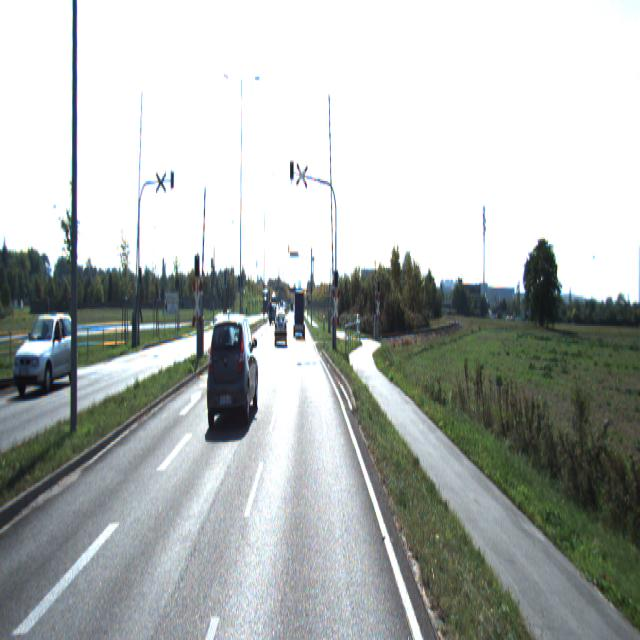Car: (206, 306, 259, 434), (11, 311, 78, 396), (210, 312, 240, 374), (294, 289, 305, 337), (274, 312, 288, 346)
